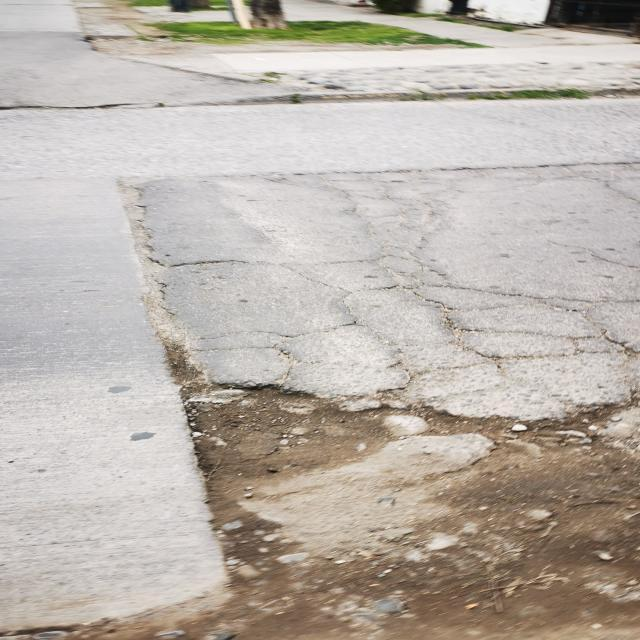BACHE: (72, 347, 639, 639)
PIEL DE COCODRILO: (121, 156, 639, 439)
